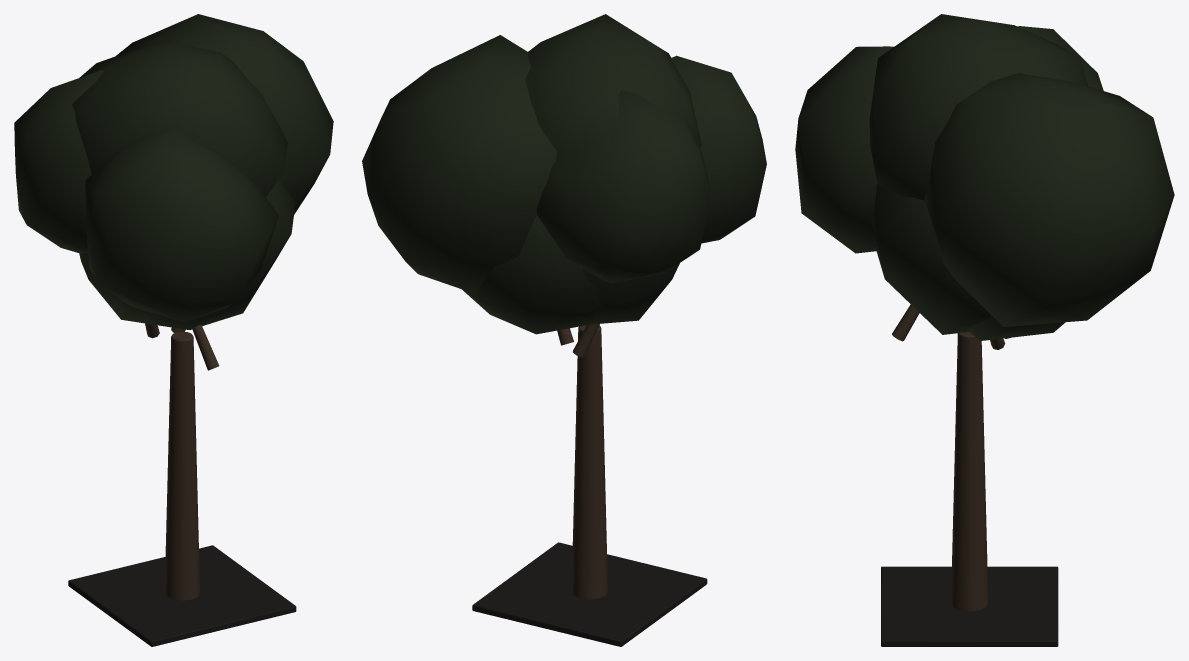
The model's file is baum.glb.
3 renders of one model, left to right at view 1: azimuth 30°, elevation 25°; view 2: azimuth 150°, elevation 25°; view 3: azimuth 270°, elevation 25°, orthographic. The views are drawn at different scales.
Parts seen in each view (by area): view 1: Icosphere.005, Icosphere, Cube, Icosphere.004, Icosphere.003, Cone, Icosphere.001, Cone.003; view 2: Icosphere.004, Icosphere.003, Icosphere, Cube, Icosphere.005, Icosphere.002, Cone, Icosphere.001; view 3: Icosphere.004, Icosphere, Icosphere.005, Cube, Cone, Icosphere.001, Icosphere.002, Icosphere.003.
Boxes of the visible parts, x1=… form: Icosphere.005: x1=85, y1=128, x2=278, y2=322; Icosphere: x1=72, y1=41, x2=288, y2=196; Cube: x1=68, y1=545, x2=296, y2=646; Icosphere.004: x1=116, y1=14, x2=333, y2=214; Icosphere.003: x1=14, y1=69, x2=103, y2=253; Cone: x1=164, y1=331, x2=199, y2=600; Icosphere.001: x1=79, y1=179, x2=295, y2=329; Cone.003: x1=192, y1=324, x2=219, y2=370; Icosphere.004: x1=362, y1=35, x2=556, y2=292; Icosphere.003: x1=536, y1=90, x2=711, y2=283; Icosphere: x1=525, y1=14, x2=701, y2=160; Cube: x1=472, y1=542, x2=707, y2=646; Icosphere.005: x1=671, y1=55, x2=766, y2=243; Icosphere.002: x1=462, y1=215, x2=603, y2=334; Cone: x1=571, y1=325, x2=607, y2=599; Icosphere.001: x1=582, y1=263, x2=679, y2=324; Icosphere.004: x1=924, y1=73, x2=1174, y2=326; Icosphere: x1=869, y1=14, x2=1088, y2=200; Icosphere.005: x1=795, y1=46, x2=893, y2=253; Cube: x1=881, y1=566, x2=1058, y2=646; Cone: x1=951, y1=332, x2=988, y2=611; Icosphere.001: x1=872, y1=184, x2=990, y2=334; Icosphere.002: x1=967, y1=315, x2=1065, y2=340; Icosphere.003: x1=1018, y1=26, x2=1103, y2=90.
Bounding box in the file's own units: 3.1 × 5.45 × 3.21.
